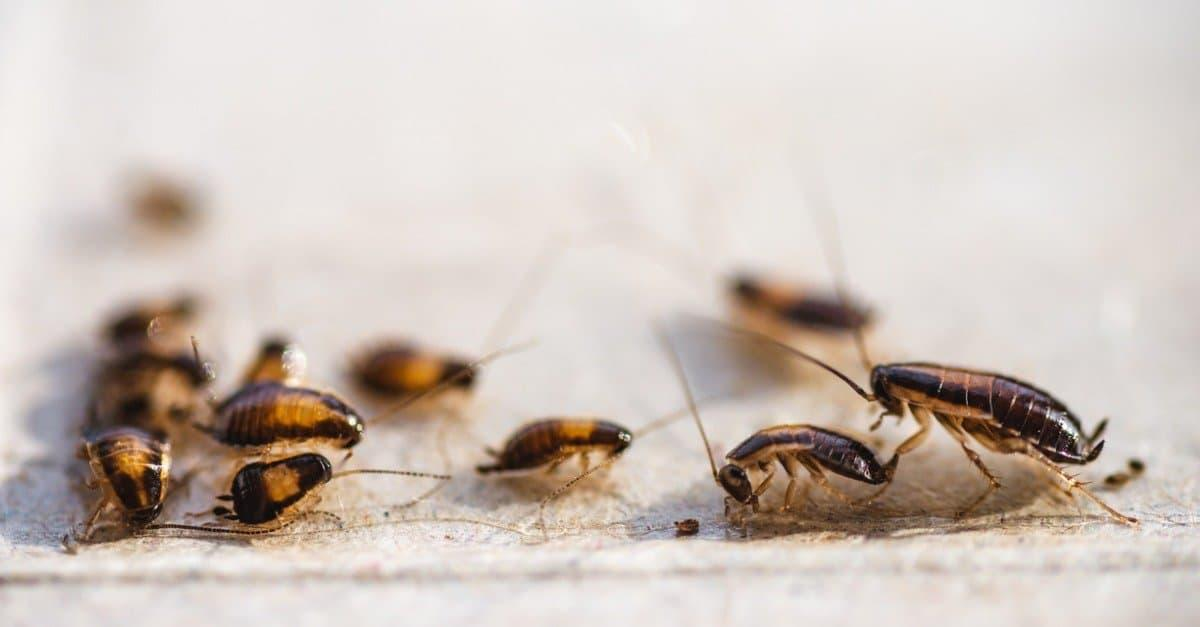cockroach: (853, 350, 1113, 496), (712, 419, 886, 511), (200, 384, 369, 459), (728, 269, 882, 339), (84, 354, 215, 430), (85, 422, 174, 528), (488, 416, 634, 478), (353, 336, 480, 405), (221, 448, 333, 524), (105, 291, 208, 350), (240, 336, 302, 387)
